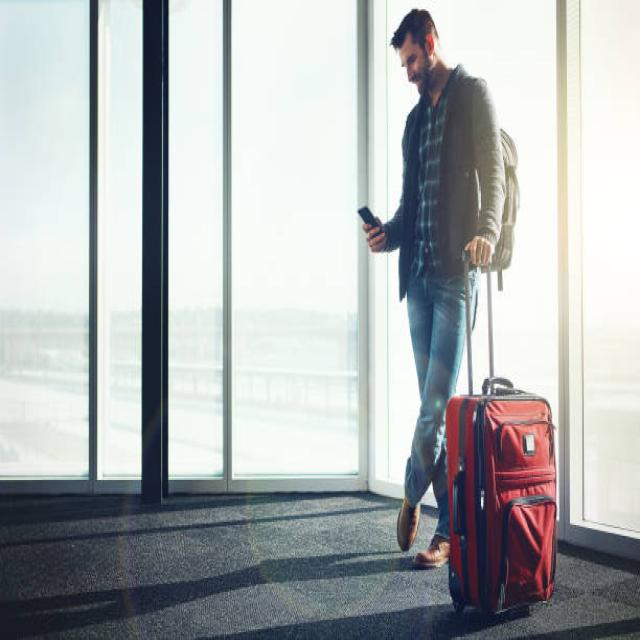Real human 2: (349, 0, 532, 587)
